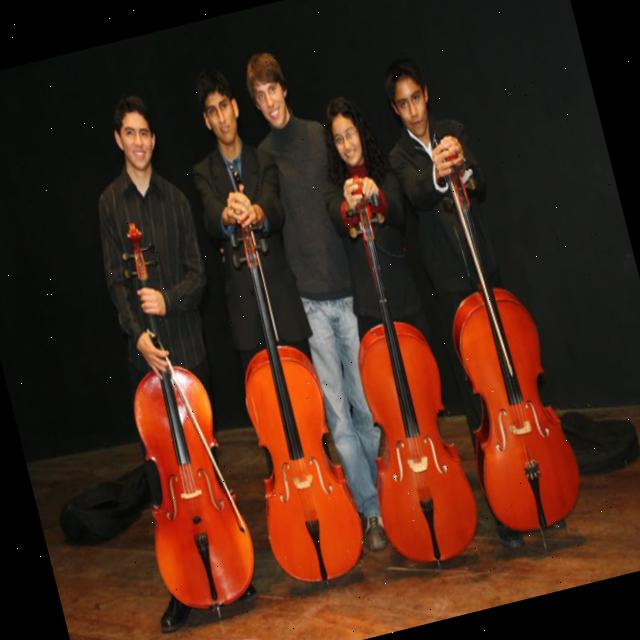cello: (72, 208, 269, 622), (394, 132, 590, 543), (298, 163, 488, 574), (188, 200, 375, 596)
